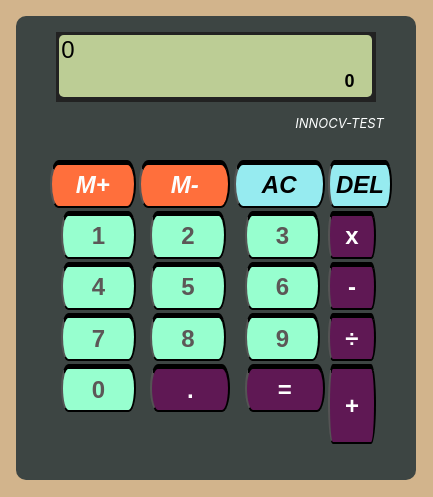
Scenario: Calculator › should update current value while typing if is number
Click the button "2". click: (188, 235)
box: 150,211 -> 225,259
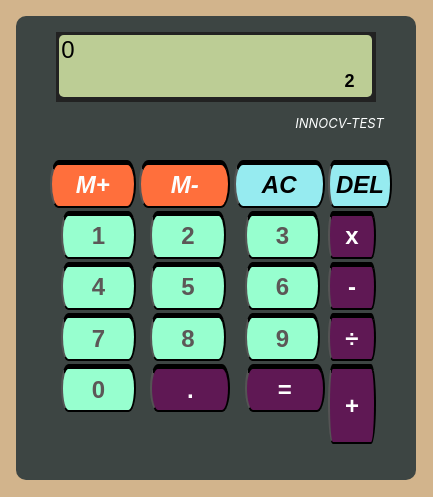
Click the button "2". click: (188, 235)
box: 150,211 -> 225,259
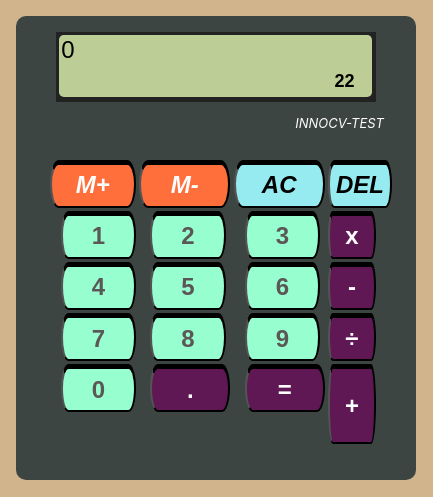
Click the button "3". click: (283, 235)
box: 245,211 -> 320,259
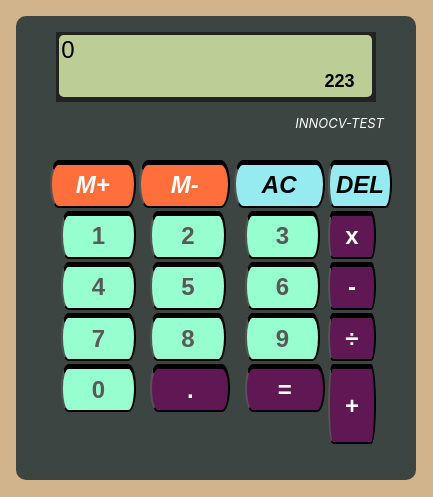
Now the number field holds "223", box 107,65 -> 371,97
